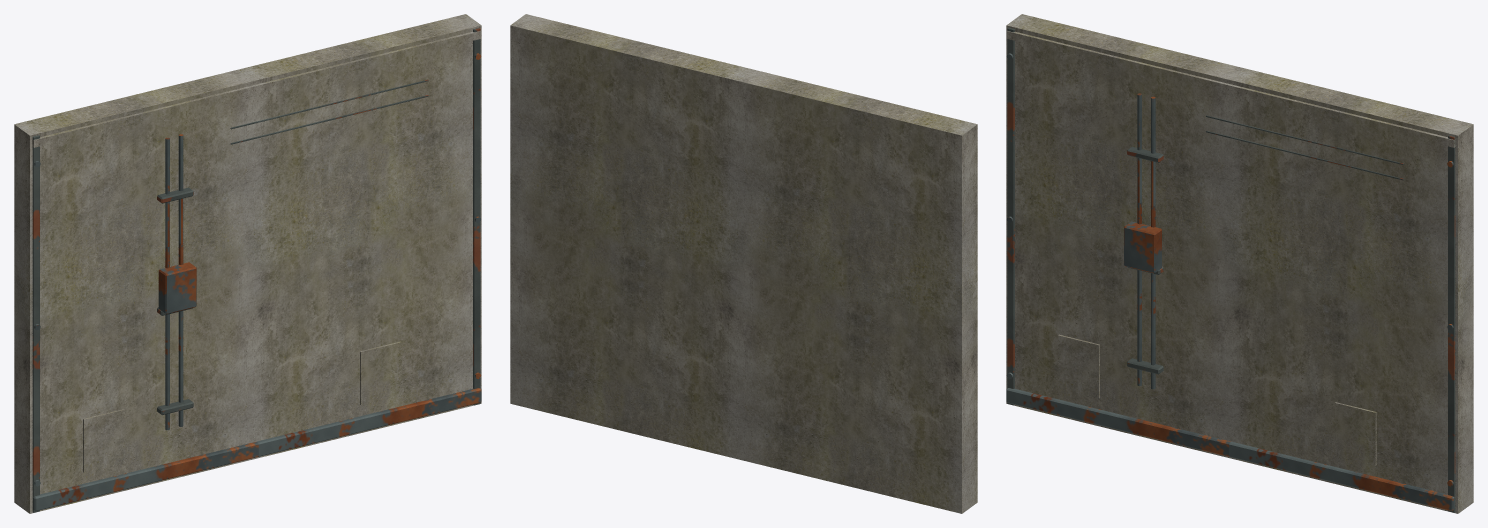
Rendered from wall_solid_refined.glb.
The picture shows the model from 3 angles, left to right: view 1: azimuth 30°, elevation 25°; view 2: azimuth 150°, elevation 25°; view 3: azimuth 330°, elevation 25°; orthographic projection.
Visible parts, largest first — view 1: Rear left | concrete_combined.001, Rear left | steel_combined.001, Rear left | roof_combined.001; view 2: Rear left | concrete_combined.001; view 3: Rear left | concrete_combined.001, Rear left | steel_combined.001, Rear left | roof_combined.001.
Part boxes in pixels (bbox=[...]): Rear left | concrete_combined.001: bbox=[14, 14, 481, 513]; Rear left | steel_combined.001: bbox=[33, 53, 481, 511]; Rear left | roof_combined.001: bbox=[32, 27, 480, 512]; Rear left | concrete_combined.001: bbox=[510, 14, 977, 513]; Rear left | concrete_combined.001: bbox=[1006, 14, 1473, 513]; Rear left | steel_combined.001: bbox=[1006, 53, 1454, 511]; Rear left | roof_combined.001: bbox=[1007, 27, 1455, 512].
Size of the model in its own units: 4 by 3.2 by 0.385.
3 materials, 3 textured.
